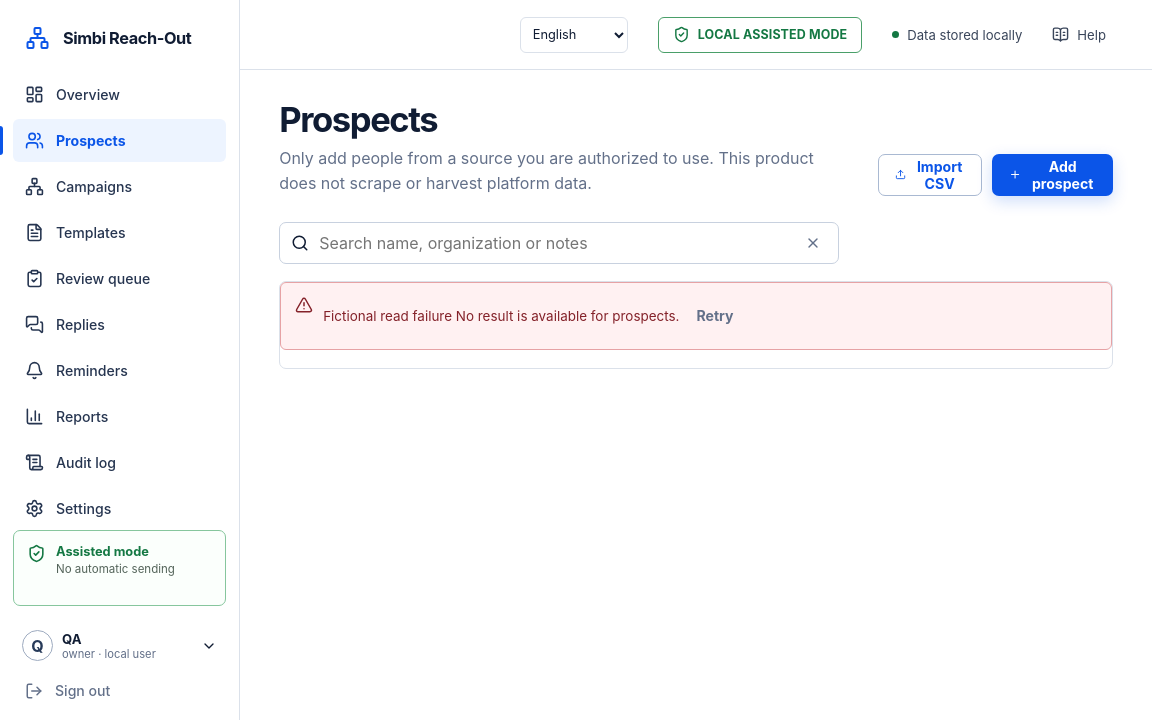
Test case: truthful loading states on every operational route › /prospects distinguishes failure from emptiness and can retry
Expected: the text "Fictional read failure" is shown, left=323, top=308, right=452, bottom=324
Expected: the text "No prospects" is not shown
Click the button "Retry" at (715, 316), box left=679, top=295, right=750, bottom=337
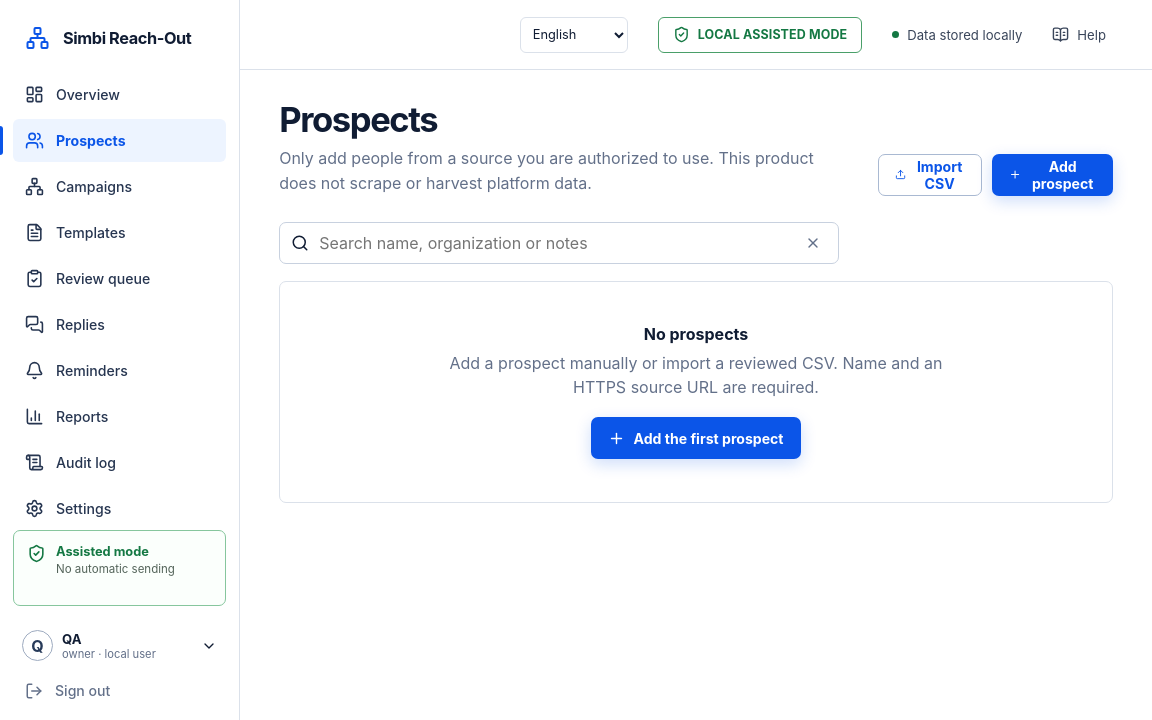
Result: the heading "No prospects" is shown at left=644, top=324, right=748, bottom=344
Result: the text "Fictional read failure" is gone
